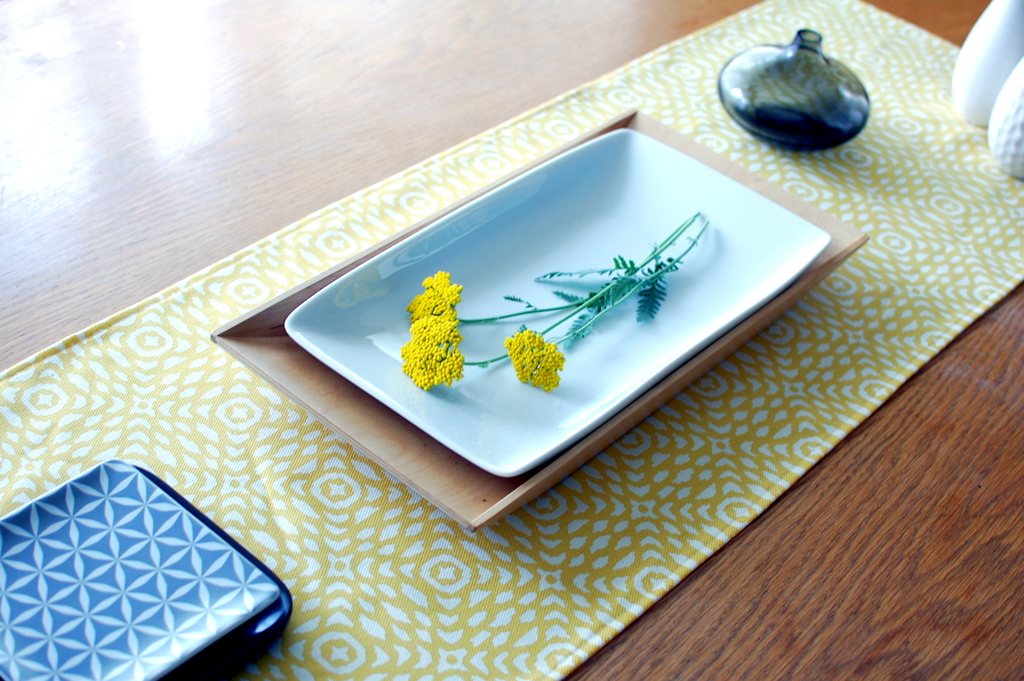plate: (0, 472, 288, 680)
